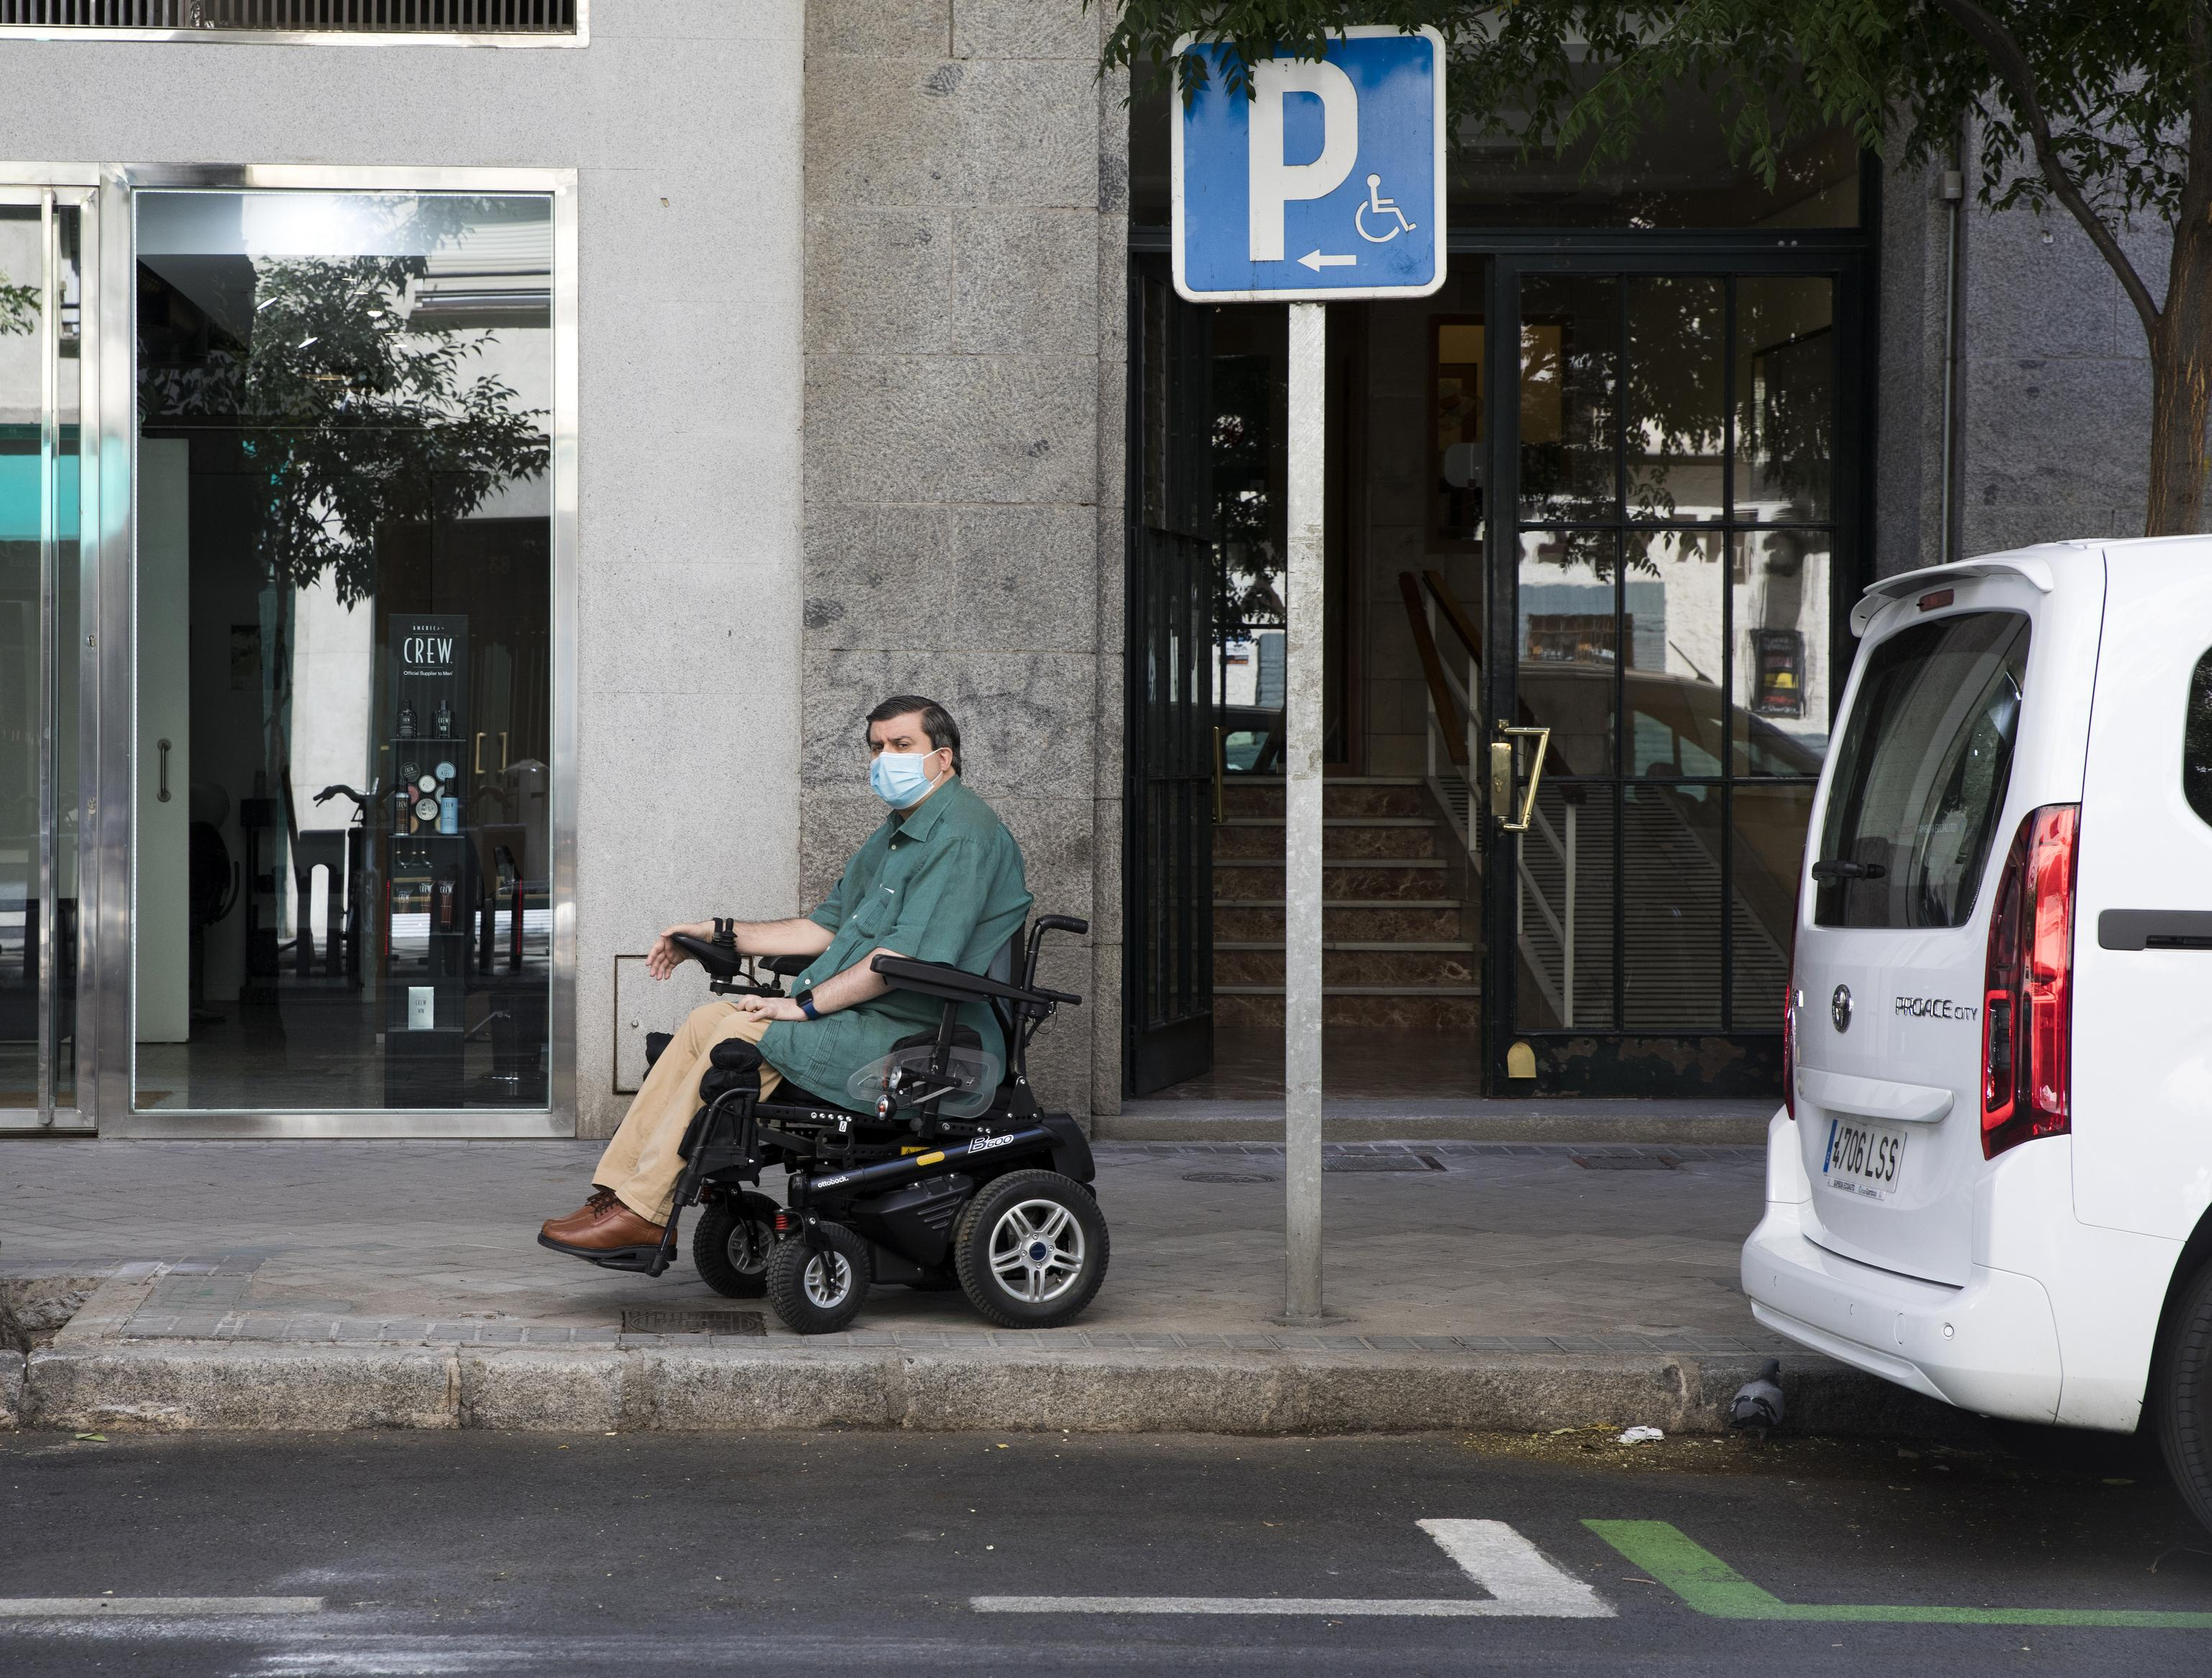wheelchair: (538, 696, 1110, 1336)
